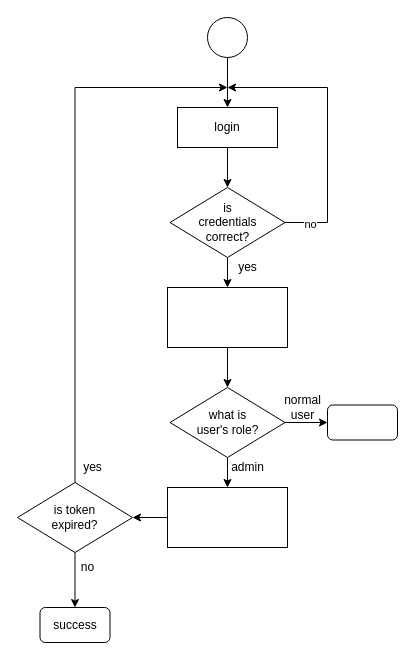
Some shapes in this 415 by 660 pixel diagram are drawn without their labels. The shapes that lost their labels are listed below. From the top down, each one's centre as x and y in pixels, then its label:
At point 227,317: "get access token".
At point 362,422: "finish".
At point 227,517: "CRUD User".
